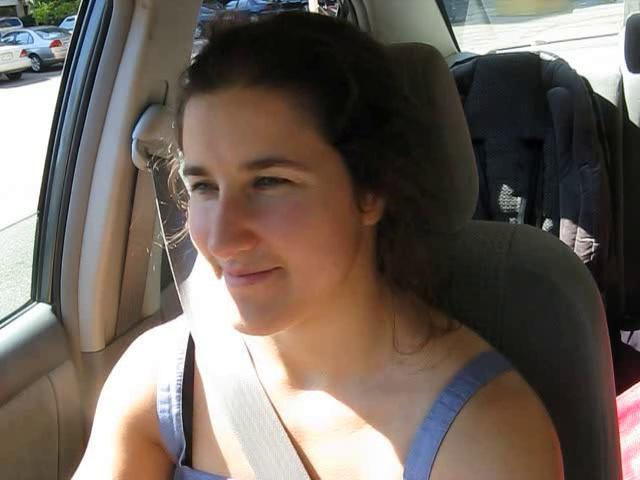close_eyeL: (236, 161, 318, 206)
close_eyeR: (175, 168, 225, 204)
no_yawn: (201, 248, 296, 305)
